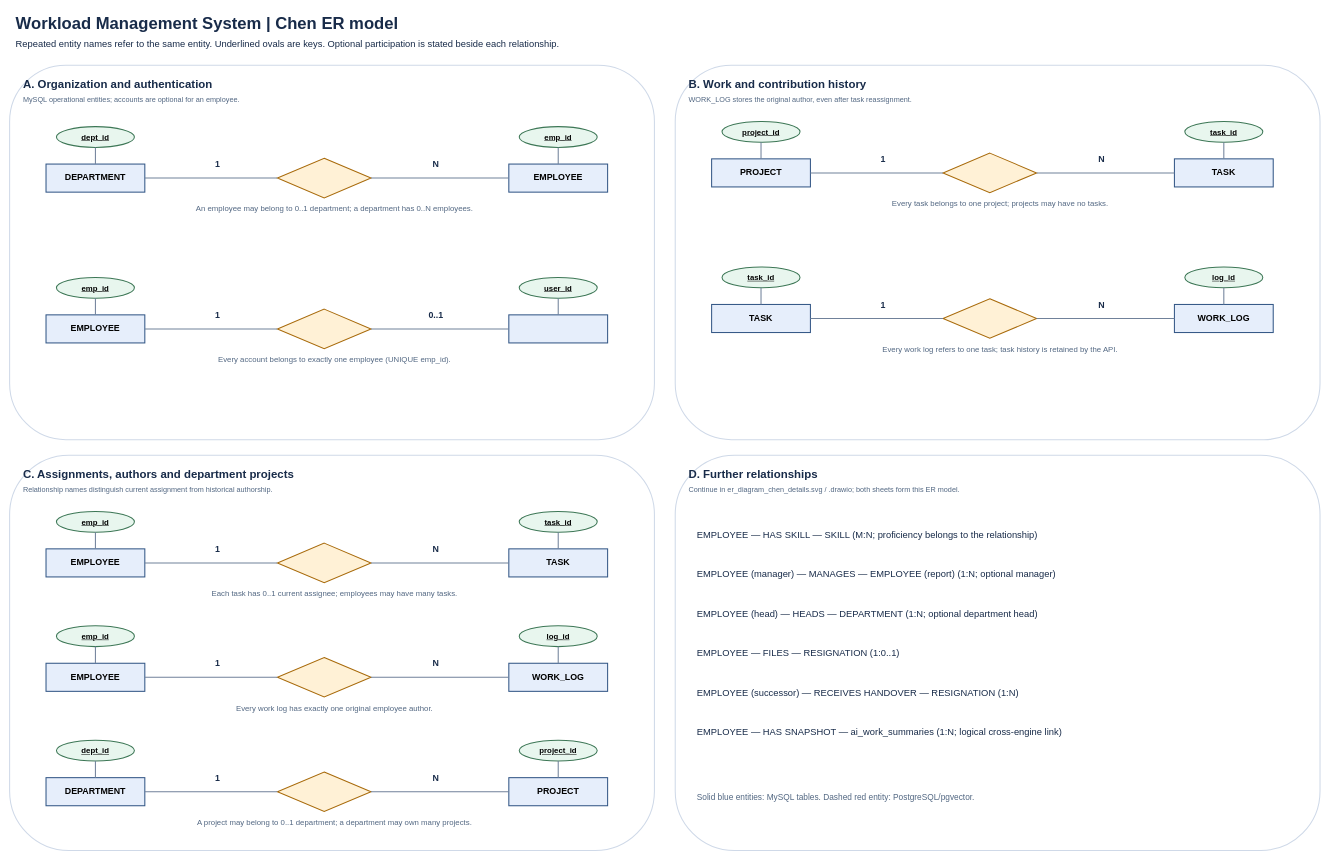
This 1329x860 diagram has some shape labels left out. The centre of each missing label's shape, as x and y in pixels:
"ASSIGNED TO" belongs at pixel 324 562.
"CONTAINS" belongs at pixel 989 172.
"EMPLOYS" belongs at pixel 324 178.
"HAS ACCOUNT" belongs at pixel 324 328.
"LOGS" belongs at pixel 324 677.
"OWNS" belongs at pixel 324 791.
"TRACKED BY" belongs at pixel 989 318.
"USER_ACCOUNT" belongs at pixel 558 328.
